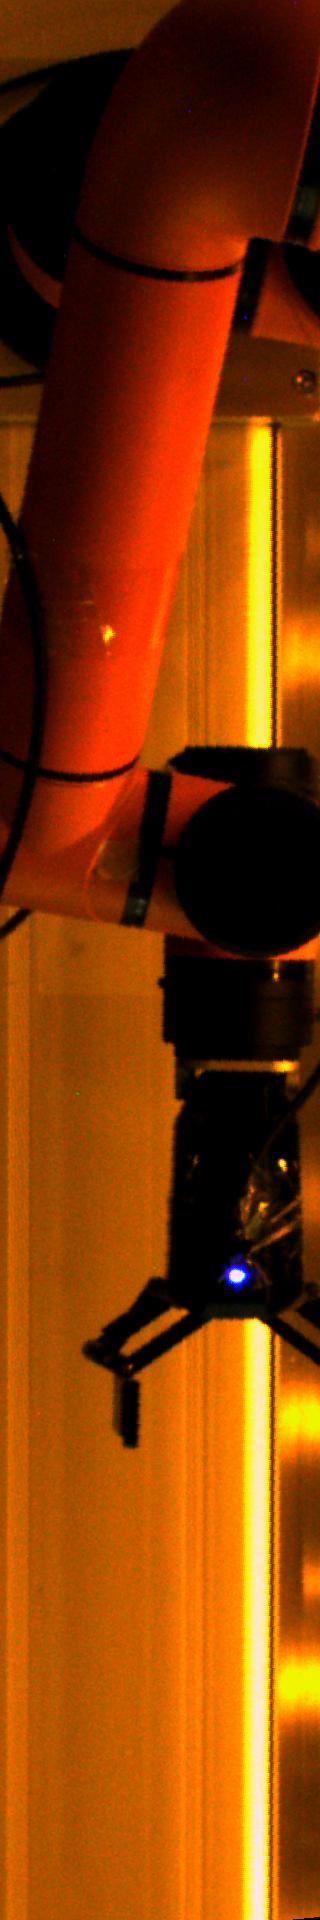keyPoint_1: (222, 1258, 253, 1288)
